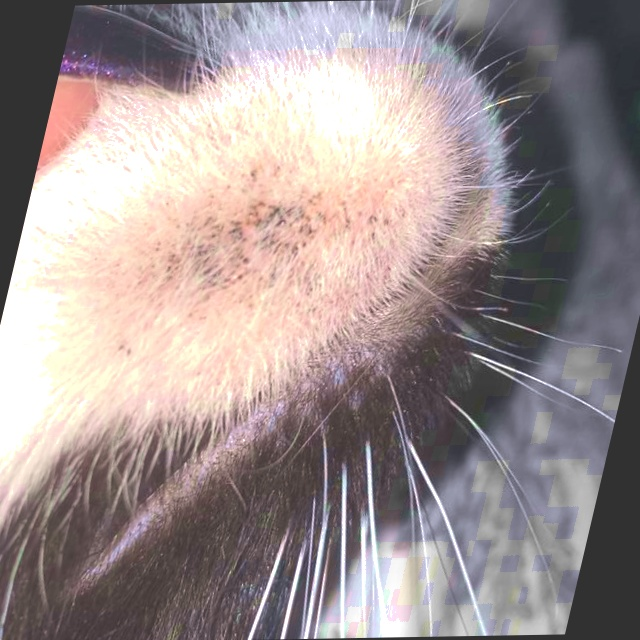acne: (87, 156, 428, 380)
